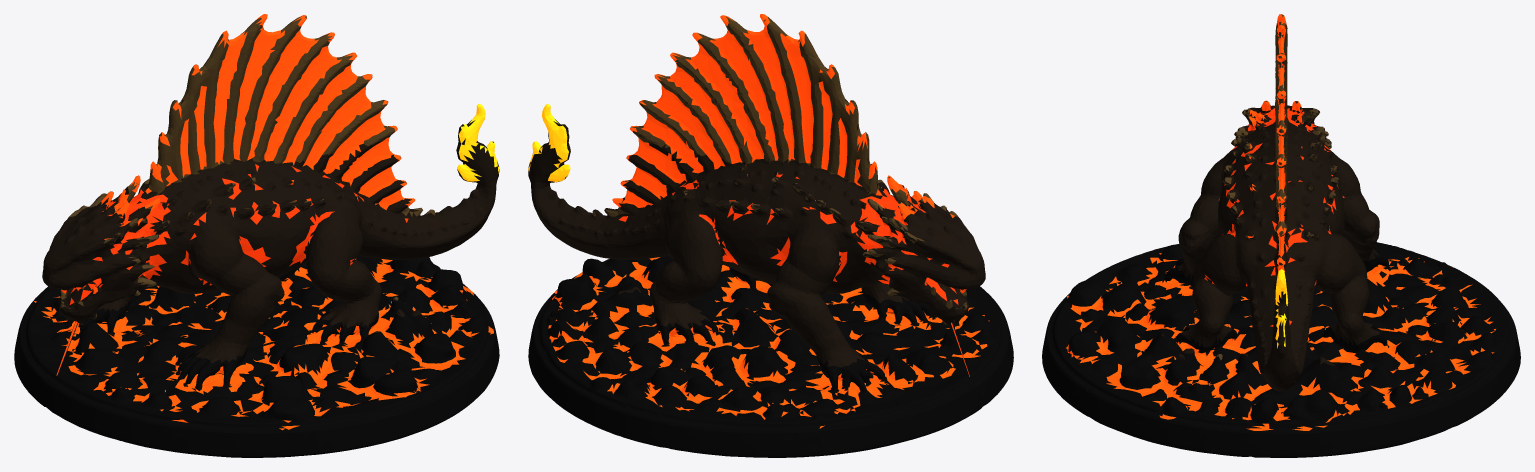
File: vela_fogo.glb
3 renders of one model, left to right at view 1: azimuth 30°, elevation 25°; view 2: azimuth 150°, elevation 25°; view 3: azimuth 270°, elevation 25°, orthographic.
Parts seen in each view (by area): view 1: tmptmis67gt.ply; view 2: tmptmis67gt.ply; view 3: tmptmis67gt.ply.
Part boxes in pixels (x1,y1,x2,y2): tmptmis67gt.ply: (14, 14, 499, 457); tmptmis67gt.ply: (528, 14, 1013, 457); tmptmis67gt.ply: (1042, 14, 1520, 457).
Size of the model in its own units: 1.96 by 1.41 by 1.81.
